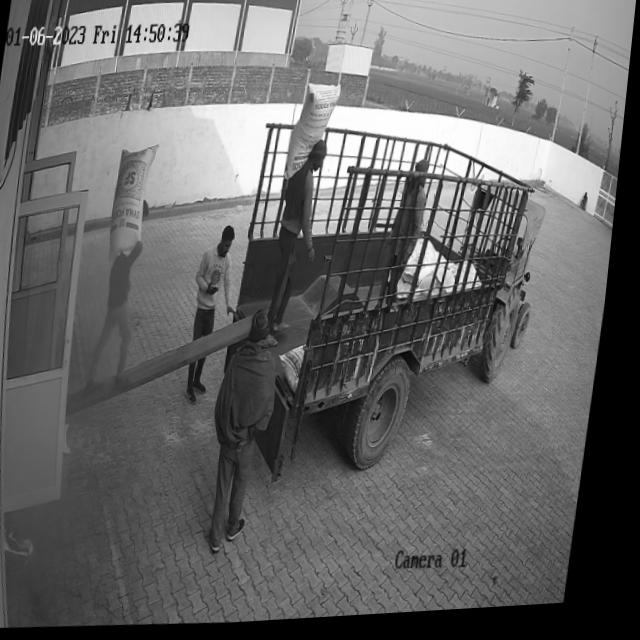sack: (111, 145, 161, 259), (288, 85, 344, 185)
